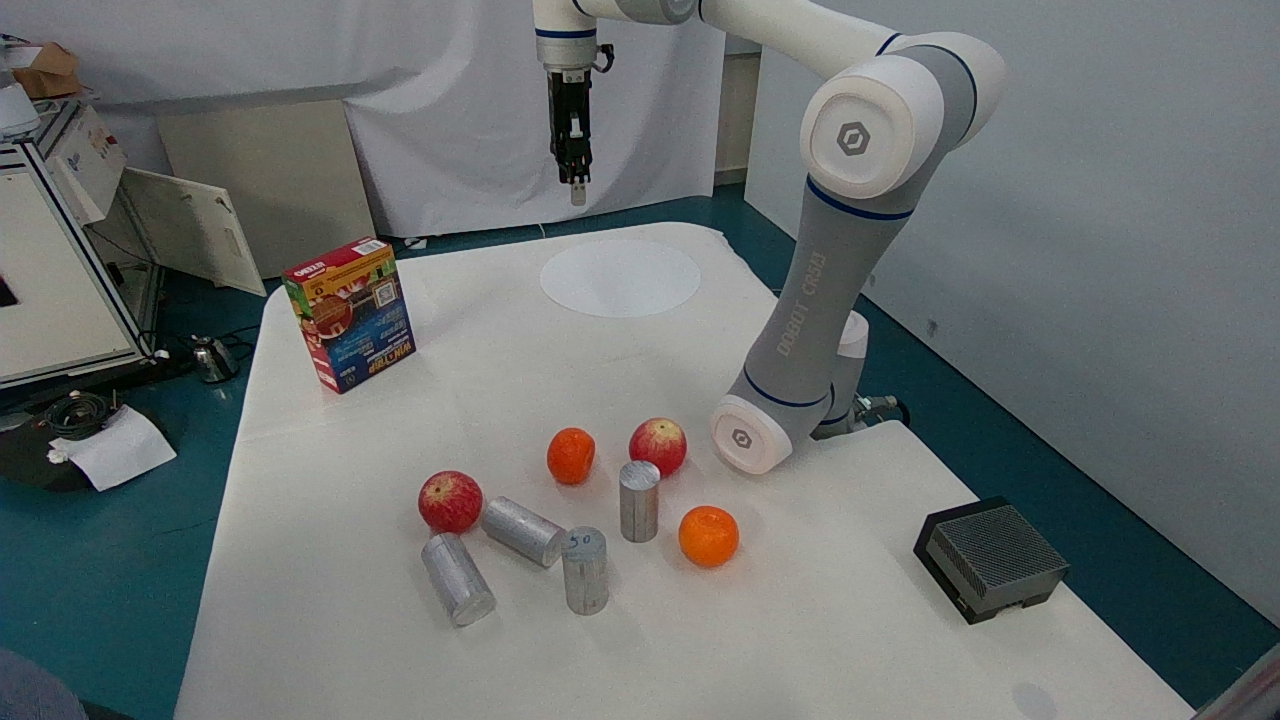apple: (607, 408, 700, 480), (408, 462, 488, 538)
metal rod: (406, 521, 494, 629), (470, 483, 568, 569), (549, 511, 619, 626), (609, 449, 672, 554)
orange: (667, 487, 755, 595), (532, 408, 602, 490)
